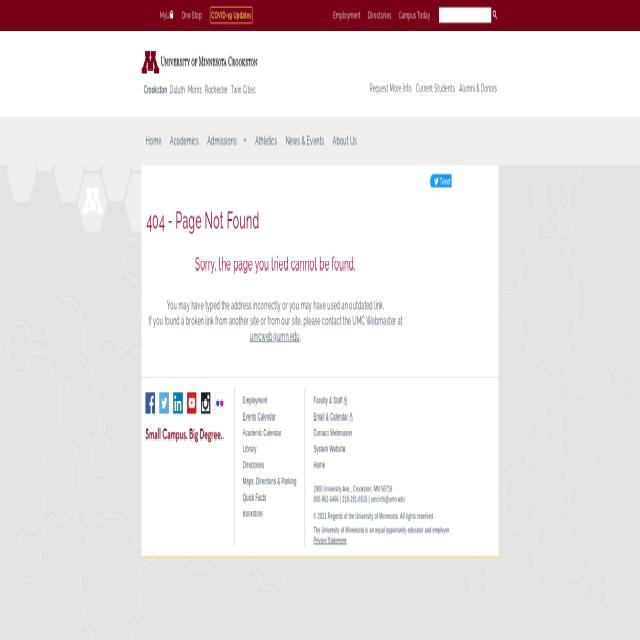button: (141, 48, 258, 73), (203, 116, 251, 164), (282, 117, 328, 165), (166, 117, 203, 165), (329, 117, 361, 165), (251, 117, 281, 165), (142, 117, 166, 165), (431, 173, 452, 189), (145, 392, 155, 413), (159, 392, 169, 413), (173, 392, 183, 413), (187, 392, 197, 413), (201, 392, 211, 413), (215, 392, 225, 413), (493, 10, 497, 20)
field: (438, 8, 492, 24)
